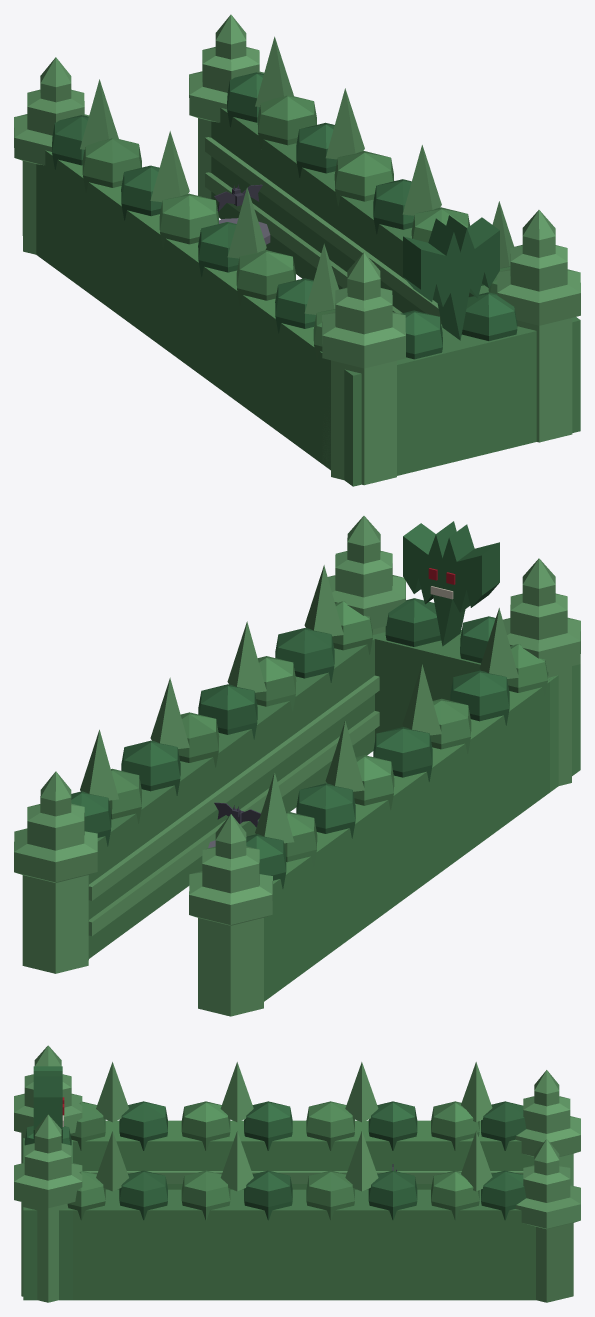
File: Decor_VampireCrypt_Hedge.fbx
The picture shows the model from 3 angles, top to bottom: view 1: azimuth 30°, elevation 25°; view 2: azimuth 150°, elevation 25°; view 3: azimuth 270°, elevation 25°; orthographic projection. The views are drawn at different scales.
Visible parts, largest first — view 1: Hedge_Body; view 2: Hedge_Body; view 3: Hedge_Body.
Boxes of the visible parts, x1=… form: Hedge_Body: x1=14, y1=14, x2=580, y2=486; Hedge_Body: x1=14, y1=516, x2=580, y2=1016; Hedge_Body: x1=14, y1=1045, x2=580, y2=1302.
Size of the model in its own units: 10.6 by 8.8 by 24.9.
